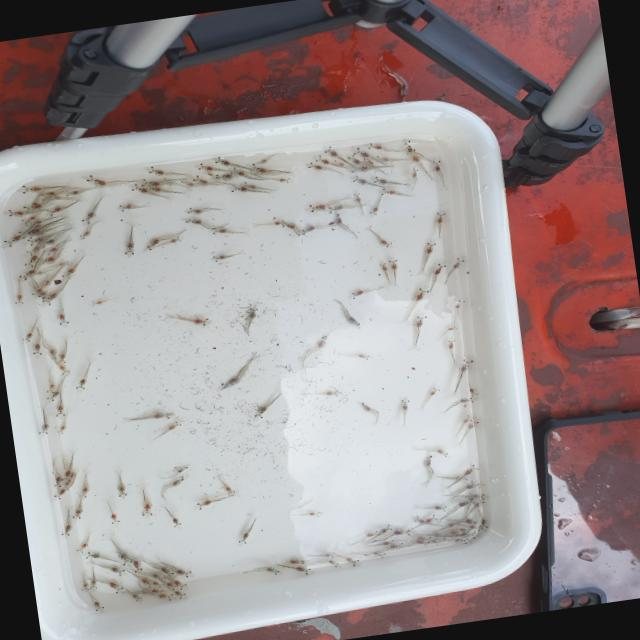babyshrimp: (454, 356, 475, 375), (3, 231, 25, 249), (15, 227, 45, 239), (409, 287, 433, 302), (416, 452, 438, 468), (77, 210, 99, 225), (219, 376, 244, 389), (373, 523, 396, 537), (449, 257, 469, 273), (460, 463, 481, 478), (456, 494, 477, 509), (83, 174, 109, 186), (42, 289, 60, 306), (144, 165, 169, 177), (404, 151, 424, 166), (16, 268, 39, 281), (19, 184, 43, 196), (193, 499, 219, 510), (249, 405, 268, 420), (29, 284, 49, 298), (321, 145, 341, 159), (211, 173, 238, 183), (244, 167, 271, 177), (121, 240, 136, 258), (105, 580, 124, 594), (43, 206, 67, 217), (225, 185, 254, 194), (116, 202, 142, 212), (23, 254, 40, 269), (4, 208, 27, 219), (144, 238, 165, 250), (428, 160, 446, 174), (129, 184, 154, 194), (430, 262, 449, 275), (237, 529, 253, 544), (56, 310, 71, 326), (391, 527, 415, 537), (399, 143, 417, 156), (413, 315, 431, 328), (156, 592, 177, 603), (190, 315, 211, 326), (39, 255, 58, 267), (61, 267, 80, 279), (53, 403, 68, 418), (46, 387, 61, 402), (30, 340, 44, 356), (367, 203, 383, 217), (72, 379, 89, 392), (451, 535, 471, 546), (426, 385, 444, 397), (36, 421, 51, 435), (21, 329, 36, 343), (387, 258, 402, 272), (314, 335, 329, 349), (107, 566, 126, 577), (326, 205, 345, 216), (347, 289, 366, 300), (89, 599, 105, 612), (23, 244, 39, 257), (379, 237, 395, 250), (443, 339, 460, 351), (211, 156, 231, 166), (304, 161, 324, 171), (309, 203, 329, 213), (366, 141, 386, 151), (51, 489, 69, 500), (465, 492, 487, 501), (427, 503, 449, 512), (423, 513, 441, 524), (130, 560, 144, 574), (399, 398, 413, 412), (118, 553, 133, 566), (433, 211, 446, 226), (57, 364, 73, 376), (464, 482, 483, 492), (346, 316, 363, 327), (410, 515, 427, 526), (343, 557, 360, 568), (285, 557, 308, 565), (60, 523, 73, 537), (70, 507, 84, 520), (224, 484, 238, 497), (157, 566, 175, 576), (13, 290, 25, 305), (27, 237, 45, 247), (76, 229, 91, 241), (347, 153, 362, 165), (371, 176, 389, 186), (425, 241, 437, 256), (152, 412, 174, 420), (64, 189, 86, 197), (353, 147, 369, 158), (150, 572, 169, 581), (385, 541, 404, 550), (266, 565, 285, 574), (351, 176, 368, 186), (445, 322, 462, 332), (240, 181, 261, 189), (227, 169, 248, 177), (186, 207, 207, 215), (466, 419, 480, 431), (321, 389, 342, 397), (169, 420, 184, 431), (48, 346, 59, 361), (246, 307, 261, 318), (314, 155, 332, 164), (296, 566, 314, 575), (181, 217, 204, 224), (348, 166, 371, 173), (141, 579, 157, 589), (164, 581, 180, 591), (196, 164, 216, 172), (307, 510, 323, 520), (131, 591, 144, 603), (169, 516, 182, 528), (141, 503, 153, 516), (79, 486, 91, 499), (60, 470, 73, 482), (408, 167, 421, 179), (173, 579, 187, 590), (117, 483, 128, 497), (369, 550, 388, 558), (177, 568, 192, 578), (175, 465, 190, 475), (39, 239, 54, 249), (453, 298, 468, 308), (441, 522, 462, 529), (84, 552, 102, 560), (170, 479, 186, 488), (44, 383, 56, 395), (90, 299, 106, 308), (42, 246, 58, 255), (380, 188, 398, 196), (56, 422, 67, 435), (350, 192, 363, 203), (377, 261, 388, 274), (461, 413, 474, 424), (360, 401, 373, 412), (172, 590, 186, 600), (208, 228, 228, 235), (436, 448, 450, 458), (211, 255, 228, 263), (75, 543, 87, 554), (479, 517, 489, 530), (149, 579, 165, 587), (190, 175, 206, 183), (365, 530, 381, 538), (52, 475, 62, 487), (56, 353, 68, 363), (278, 177, 293, 185), (328, 559, 341, 568), (171, 236, 185, 244), (459, 397, 475, 404), (356, 352, 372, 359), (464, 523, 478, 531), (88, 580, 99, 590), (180, 181, 198, 187), (332, 216, 344, 225), (415, 538, 433, 544), (251, 160, 268, 166), (110, 513, 119, 524), (469, 387, 478, 398), (382, 539, 396, 546), (425, 533, 441, 539), (80, 582, 90, 591), (465, 519, 477, 525), (433, 541, 440, 545)
